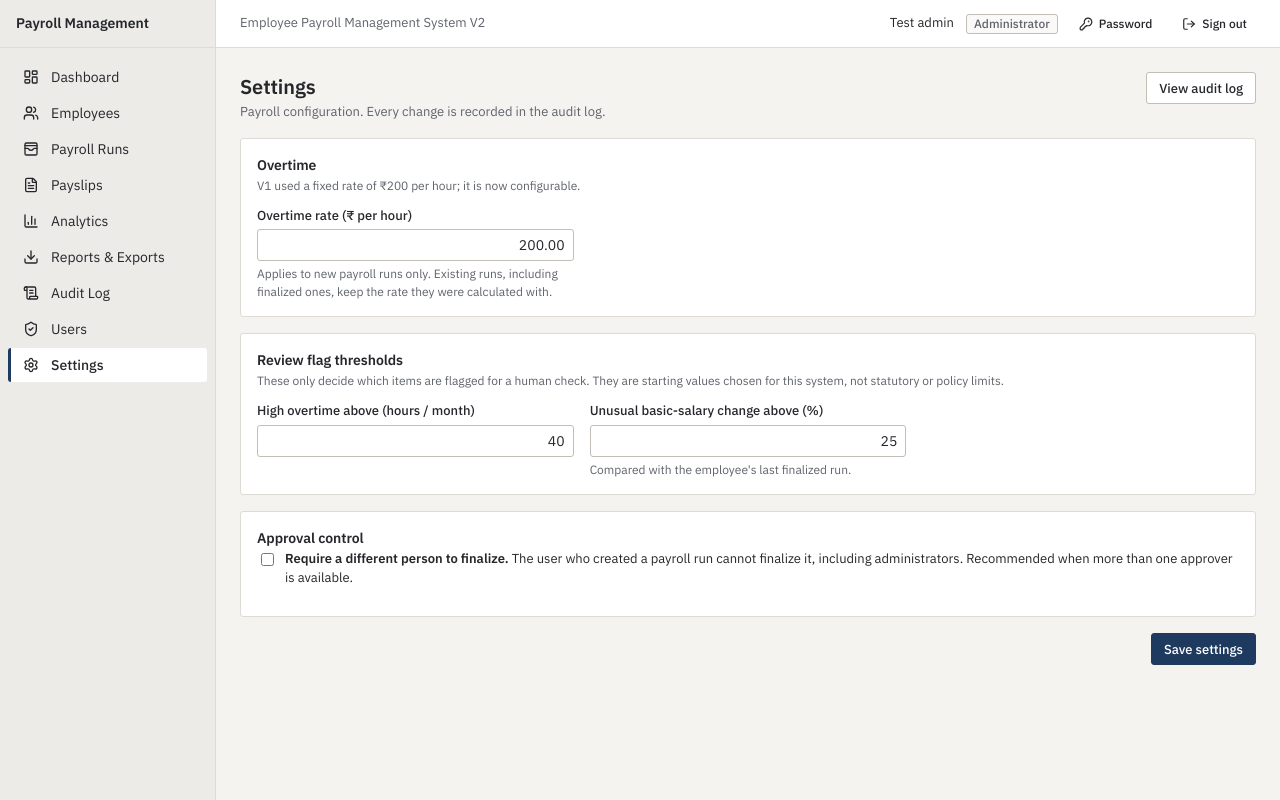
Scenario: Settings › server rejection is shown
This screenshot has width=1280, height=800.
Replace the text in the field labelled "High overtime above (hours / month)" with "100" at (415,441), box [257,425,574,457]
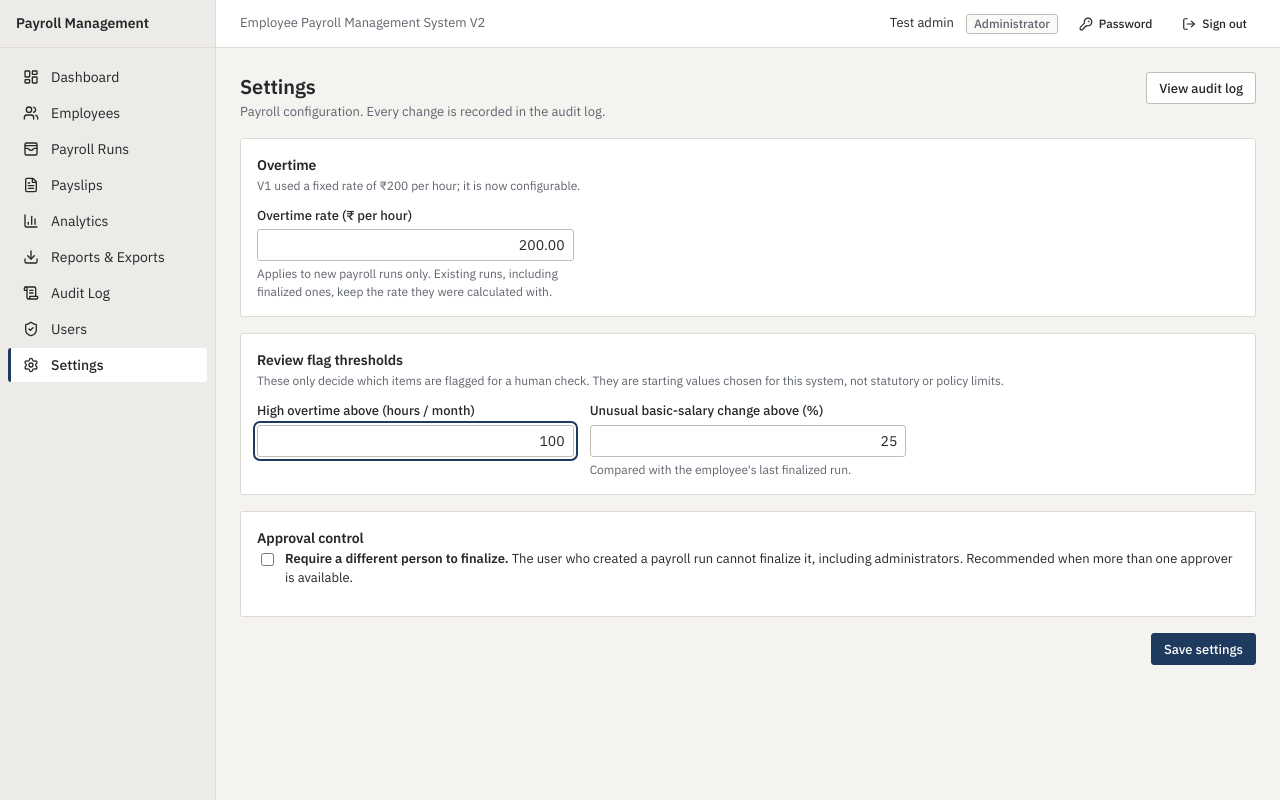
Click the button "Save settings" at (1203,649), box [1151,633,1256,665]
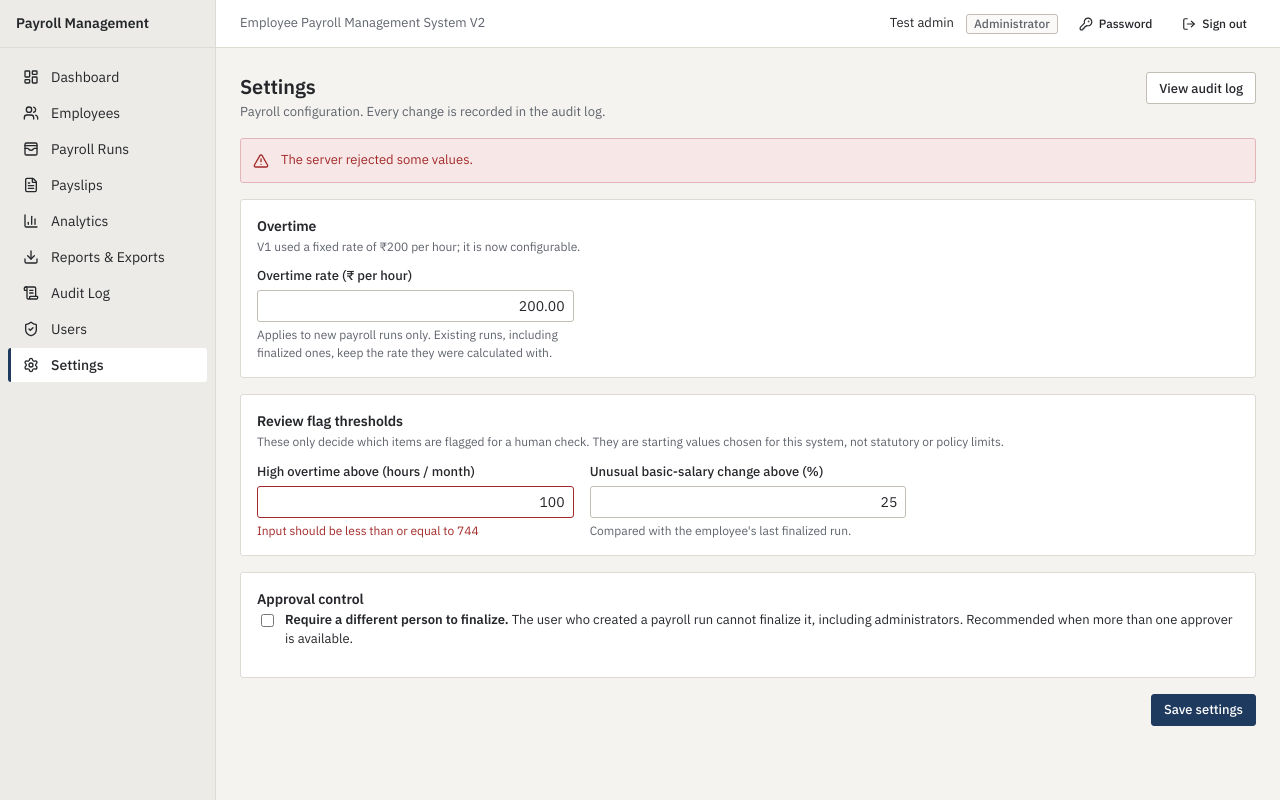
Expected: the text "Input should be less than or equal to 744" is shown, [257,522,479,538]
